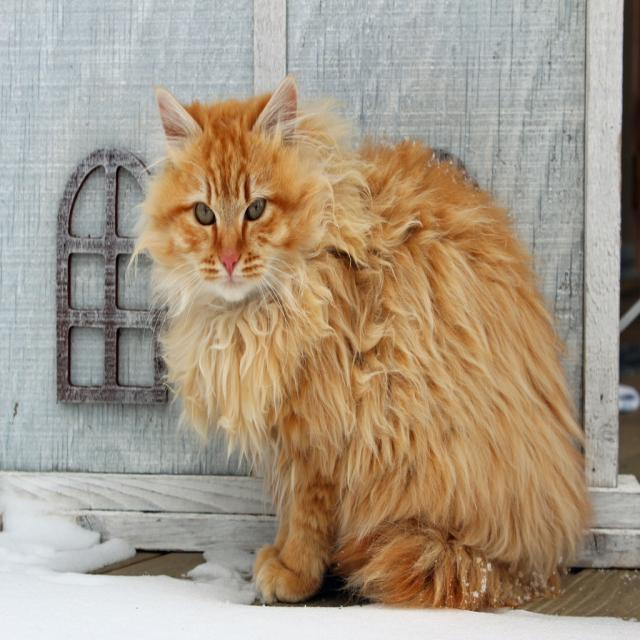Cat: (116, 71, 588, 609)
